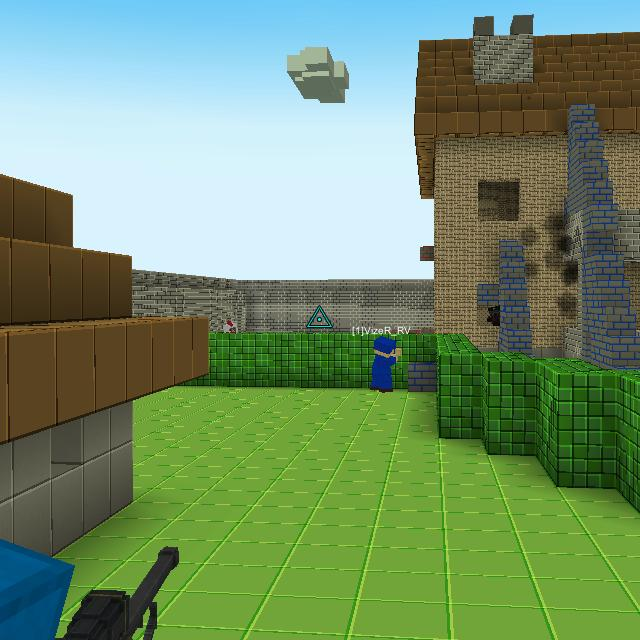enemy: (223, 319, 238, 333)
